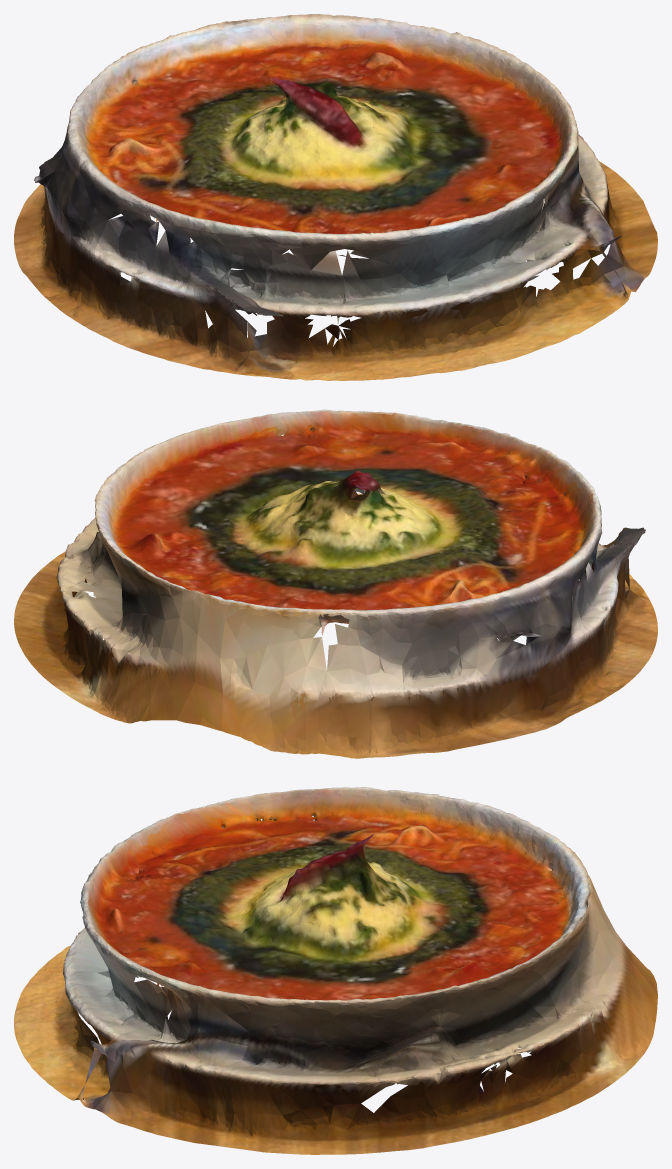
File: spaghetti-harappa-pomodoro-mobile.glb
The picture shows the model from 3 angles, top to bottom: view 1: azimuth 30°, elevation 25°; view 2: azimuth 150°, elevation 25°; view 3: azimuth 270°, elevation 25°; orthographic projection.
Visible parts, largest first — view 1: mesh; view 2: mesh; view 3: mesh.
Boxes of the visible parts, box(x1,y1,x2,y2) form: mesh: box(14, 14, 657, 380); mesh: box(14, 409, 657, 758); mesh: box(14, 787, 657, 1154).
Size of the model in its own units: 0.25 by 0.0713 by 0.2489.
1 material, 1 textured.
